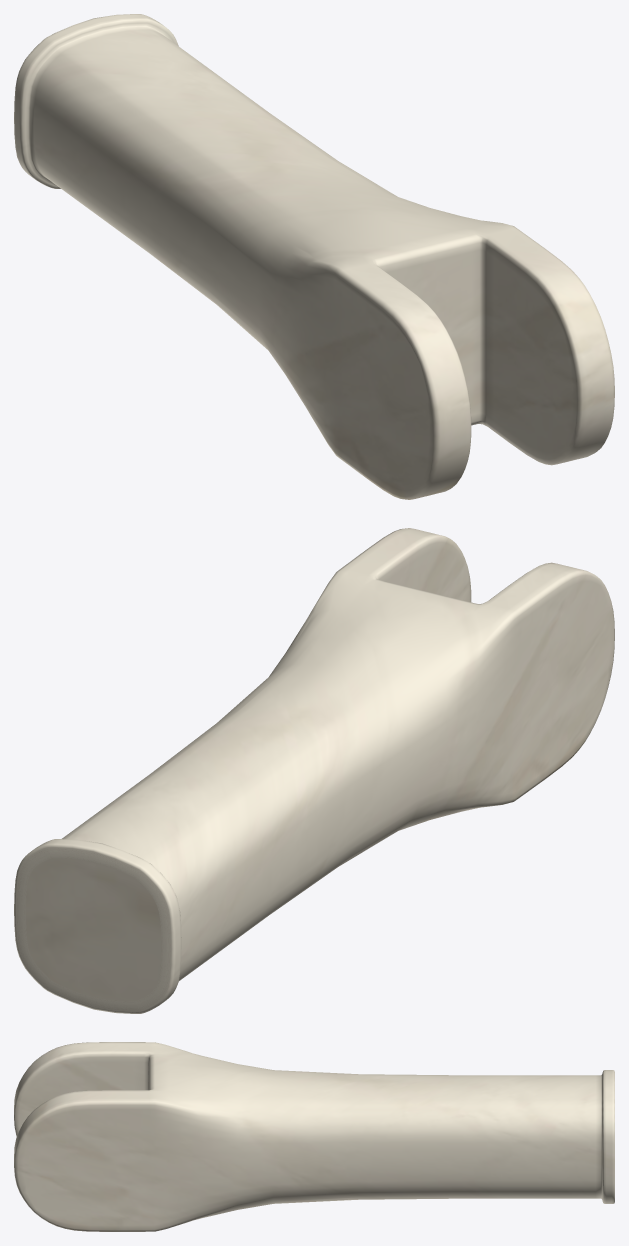
The model's file is PART4 (SUBDIVISION).glb.
3 renders of one model, top to bottom at view 1: azimuth 30°, elevation 25°; view 2: azimuth 150°, elevation 25°; view 3: azimuth 270°, elevation 25°, orthographic. The views are drawn at different scales.
Visible parts, largest first — view 1: CANADARM HD.004; view 2: CANADARM HD.004; view 3: CANADARM HD.004.
Part boxes in pixels (x1,y1,x2,y2): CANADARM HD.004: [14, 14, 614, 499]; CANADARM HD.004: [14, 528, 614, 1013]; CANADARM HD.004: [14, 1042, 614, 1231].
Size of the model in its own units: 0.1265 by 0.1268 by 0.5259.
1 material, 1 textured.
